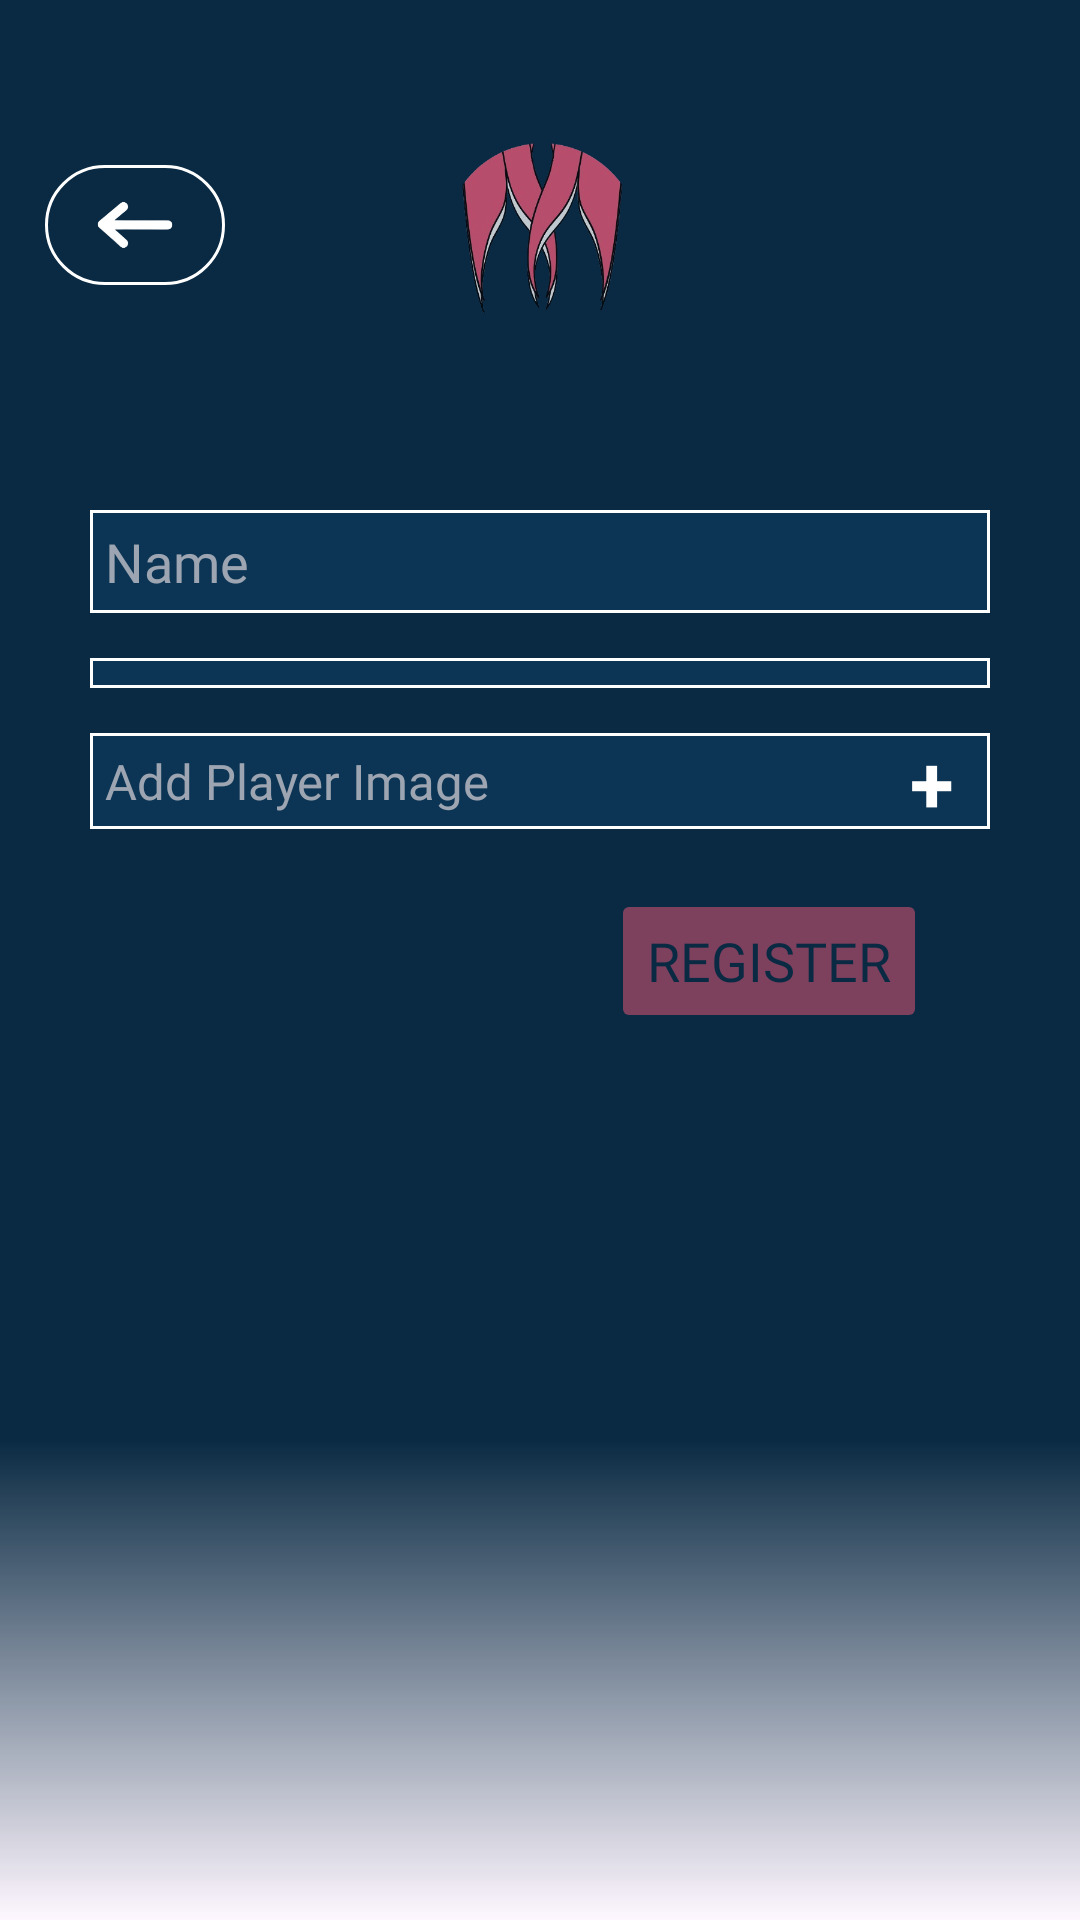

Where to tap for icons on this 1080×1920 app screen, as (x=x, y=y):
arrow: (x=135, y=225)
